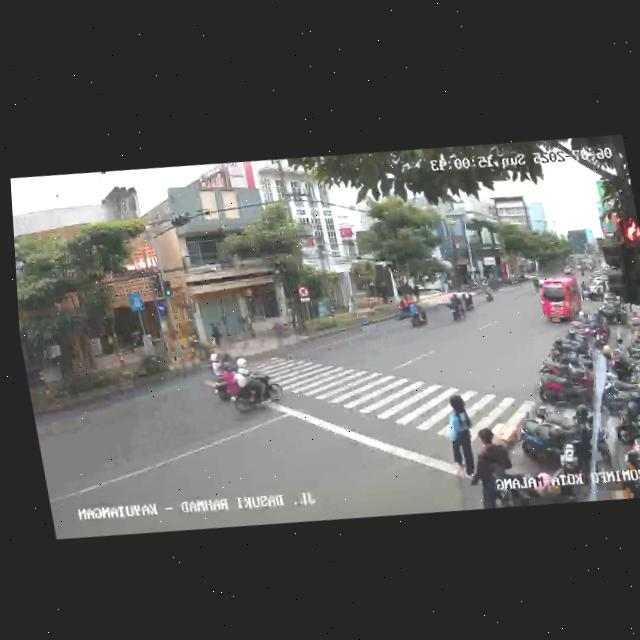car: (533, 273, 586, 328)
motorcycle: (218, 351, 288, 420), (206, 349, 251, 405), (405, 298, 428, 330), (443, 292, 466, 324), (459, 287, 475, 312), (483, 285, 495, 302)
person: (460, 422, 520, 511), (441, 392, 481, 486), (531, 276, 540, 294)
